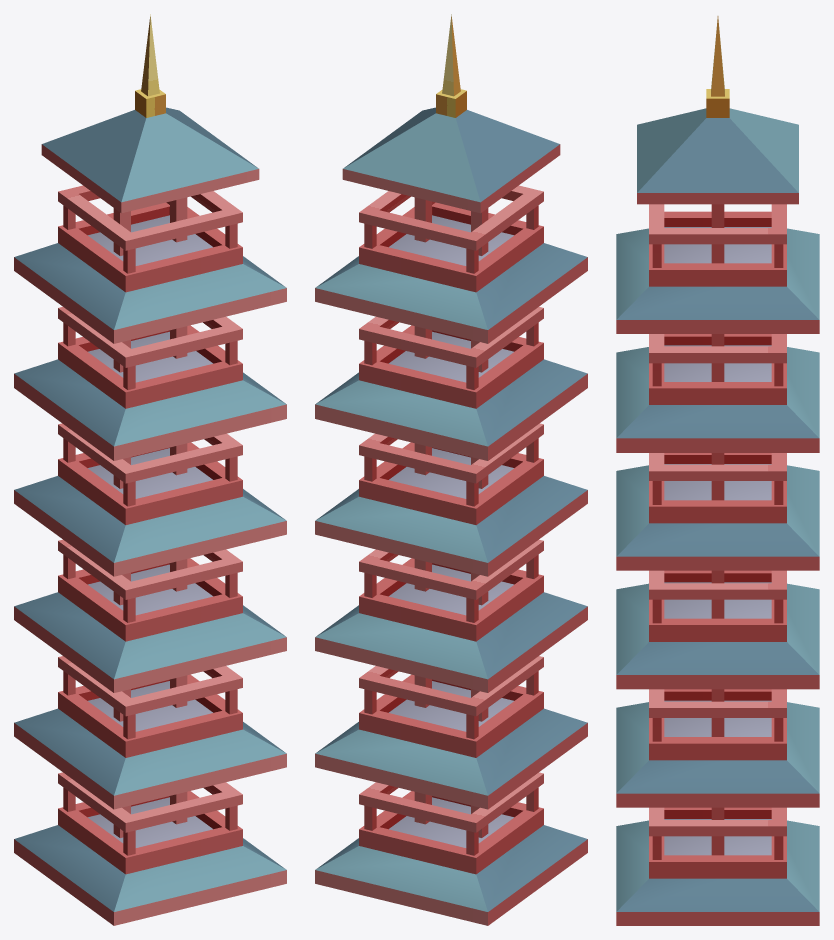
File: house_bg_e.fbx
3 renders of one model, left to right at view 1: azimuth 30°, elevation 25°; view 2: azimuth 150°, elevation 25°; view 3: azimuth 270°, elevation 25°, orthographic.
Visible parts, largest first — view 1: house_bg_e; view 2: house_bg_e; view 3: house_bg_e.
Boxes of the visible parts, x1=… form: house_bg_e: x1=14, y1=14, x2=286, y2=925; house_bg_e: x1=315, y1=14, x2=587, y2=925; house_bg_e: x1=616, y1=16, x2=819, y2=925.
Bounding box in the file's own units: 2.18 × 10.28 × 2.18.
1 material, 1 textured.
